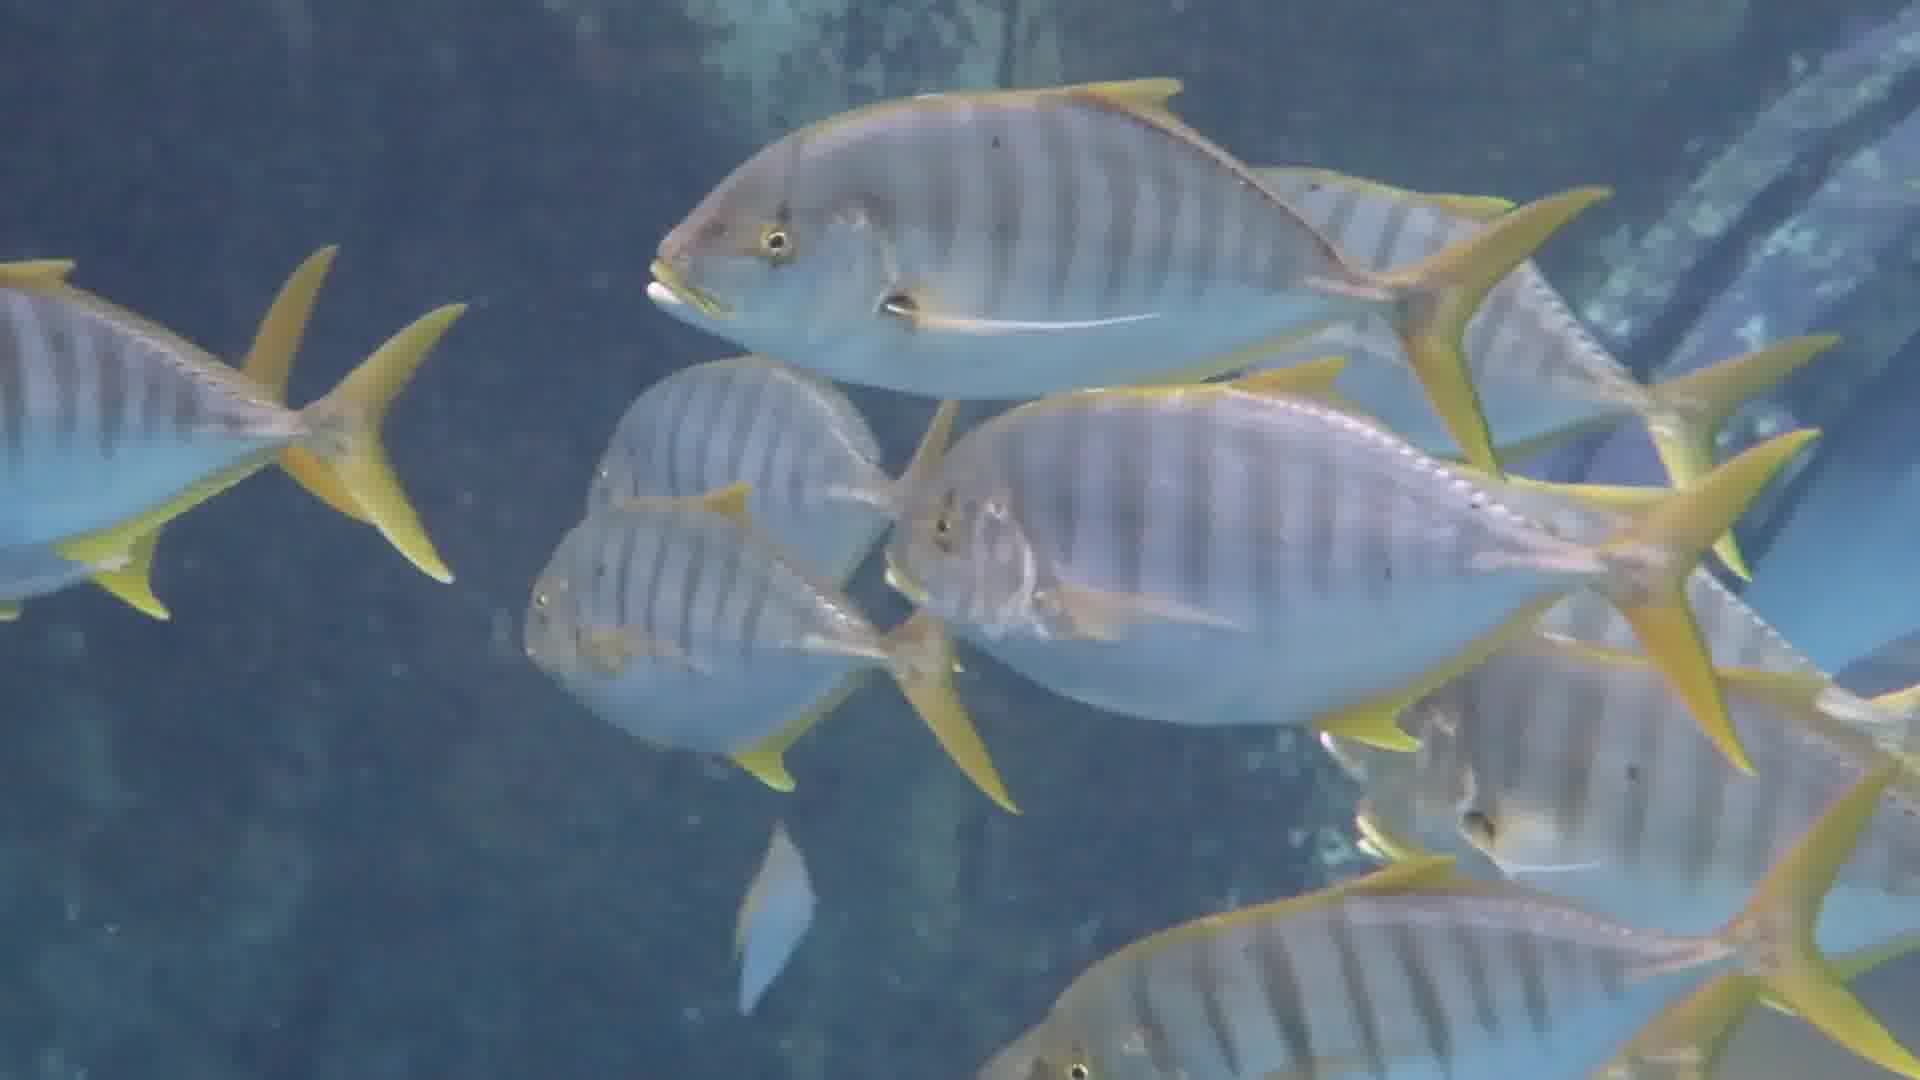Gnathanodon speciosus: (858, 419, 1724, 741), (637, 137, 1501, 392), (989, 889, 1883, 1076), (516, 506, 1007, 782)
